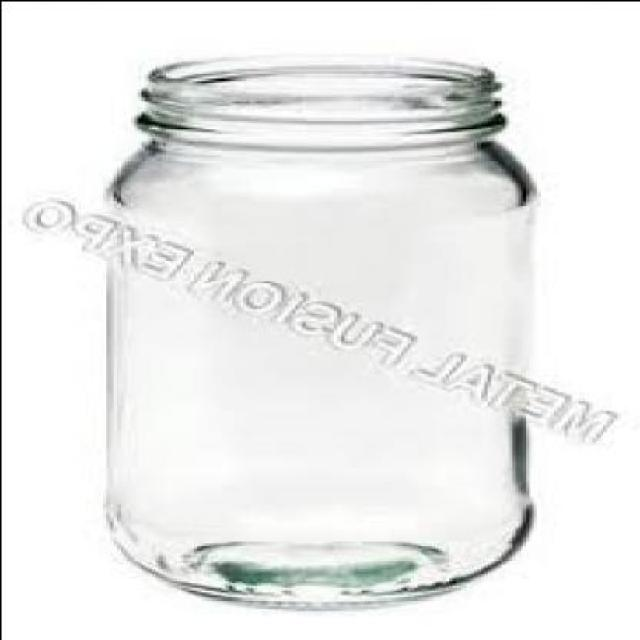GLASS: (100, 52, 532, 602)
